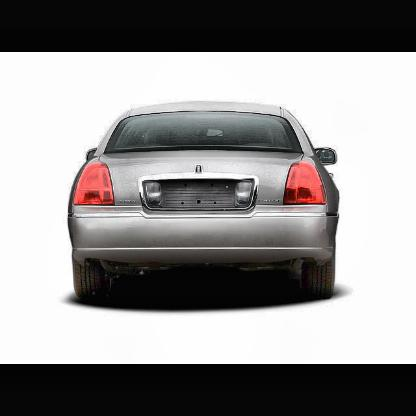Lincoln Town Car Sedan 2011: (67, 99, 343, 297)
